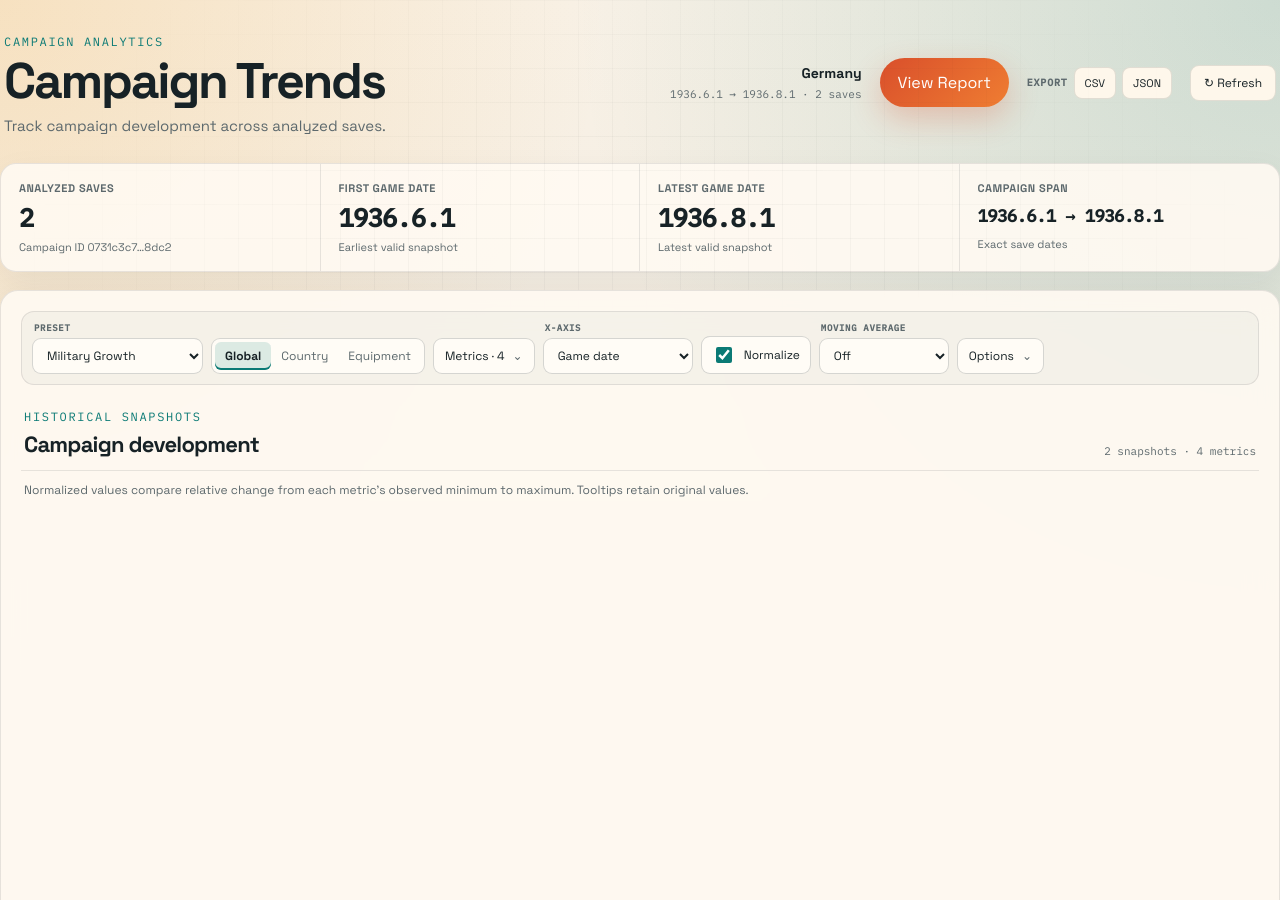
Campaign Trends › shows a safe equipment state when no campaign country is available
The width and height of the screenshot is (1280, 900).
Click the button "Equipment".
click(380, 356)  # box [338,342,421,370]
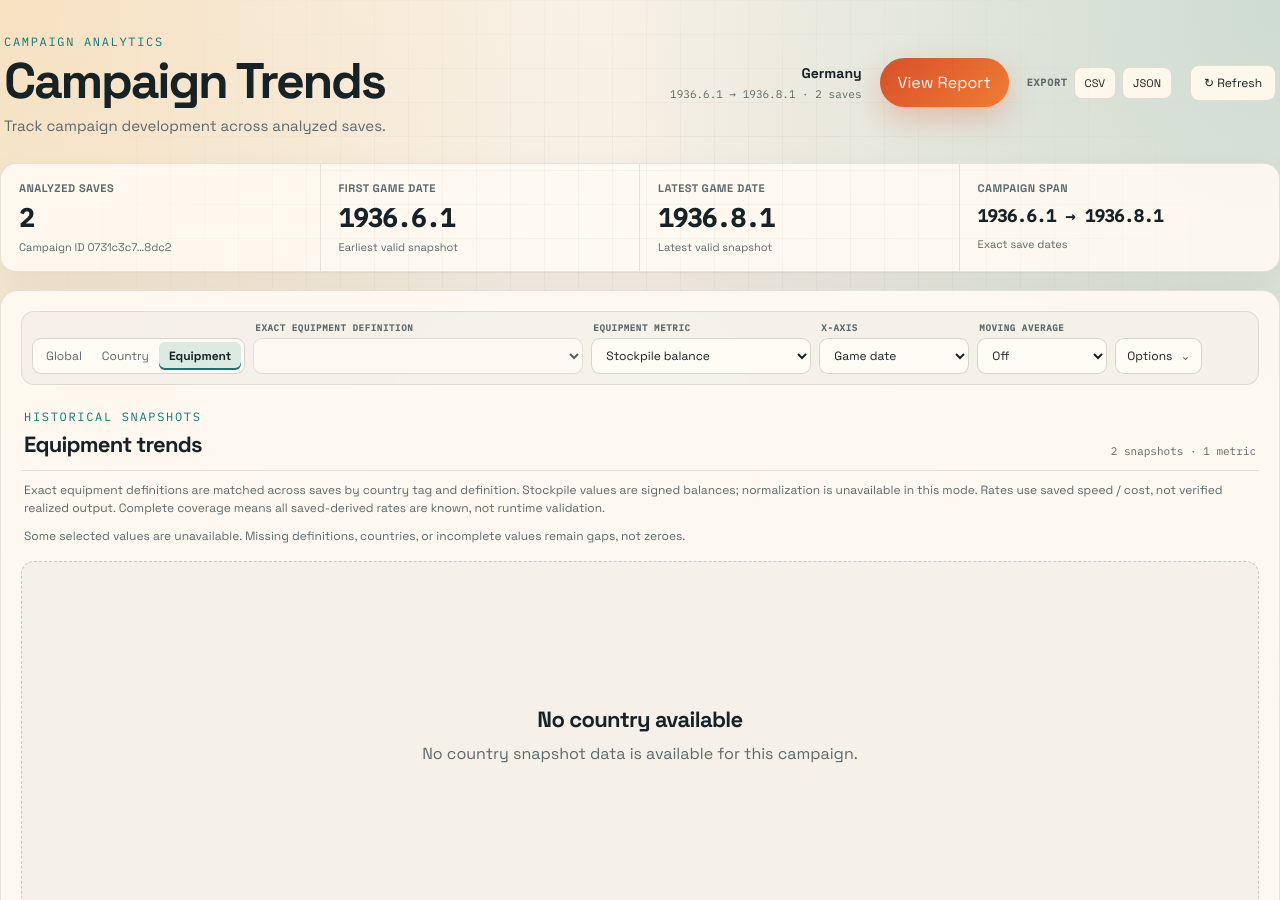
Expected: the text "No country available" is shown, [537,705,743,733]
Expected: the text "No country snapshot data is available" is shown, [422,743,858,764]
